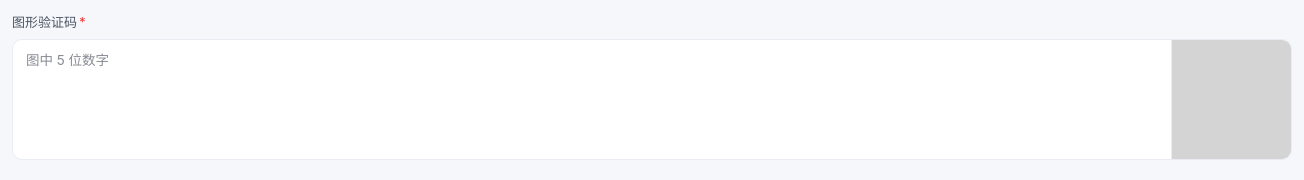
Test: CaptchaField › 只接受数字，最多 5 位
Type "a1b2c3d4e5f6" into the field with placeholder "图中 5 位数字" at (592, 60), box [13,40,1171,80]
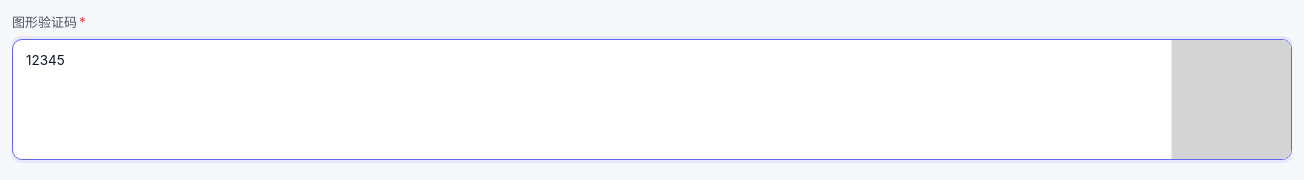
expect the field with placeholder "图中 5 位数字" holds "12345": met, box [13,40,1171,80]
